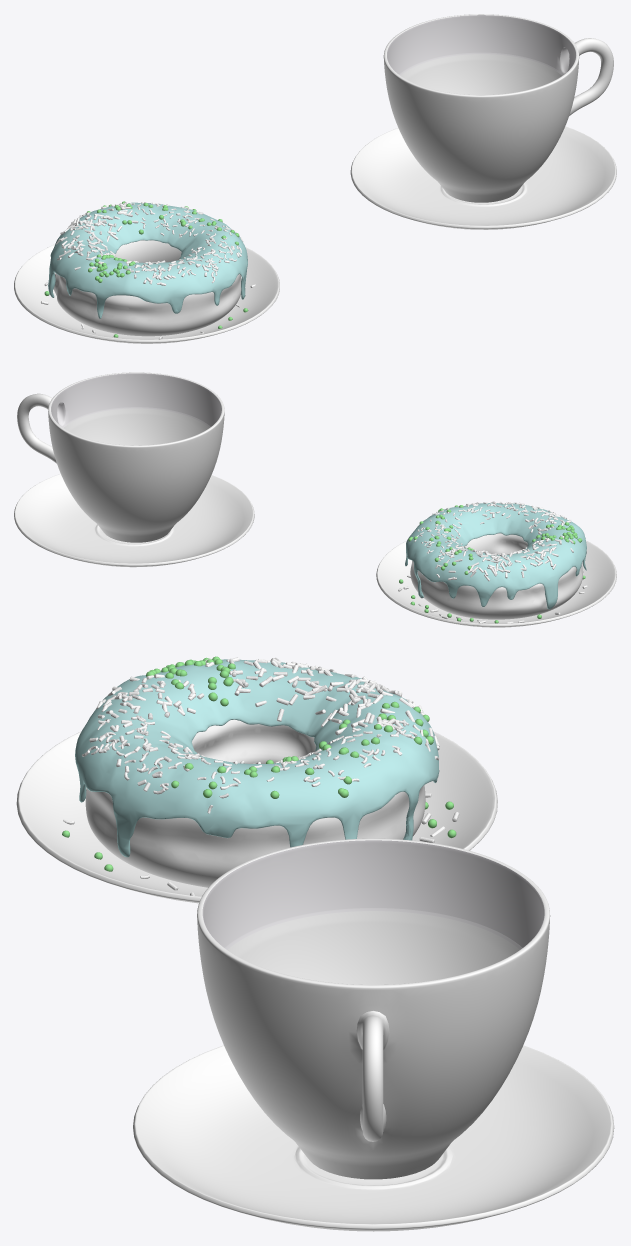
File: Coffe.glb
The picture shows the model from 3 angles, top to bottom: view 1: azimuth 30°, elevation 25°; view 2: azimuth 150°, elevation 25°; view 3: azimuth 270°, elevation 25°; orthographic projection. The views are drawn at different scales.
Visible parts, largest first — view 1: Кружка, Тарелка, Torus.001, Torus, Тарелка.001, Кружка.001; view 2: Кружка, Тарелка, Torus.001, Тарелка.001, Torus, Кружка.001; view 3: Кружка, Тарелка, Torus.001, Кружка.001, Torus, Тарелка.001.
Boxes of the visible parts, x1,y1,x2,y2 form: Кружка: [383, 14, 613, 202]; Тарелка: [350, 126, 616, 229]; Torus.001: [48, 202, 247, 318]; Torus: [53, 240, 241, 336]; Тарелка.001: [14, 244, 279, 343]; Кружка.001: [399, 53, 563, 94]; Кружка: [17, 372, 224, 542]; Тарелка: [14, 474, 254, 567]; Torus.001: [405, 502, 586, 609]; Тарелка.001: [376, 540, 616, 627]; Torus: [410, 533, 583, 619]; Кружка.001: [62, 407, 209, 445]; Кружка: [197, 838, 550, 1179]; Тарелка: [133, 1045, 614, 1231]; Torus.001: [75, 659, 439, 857]; Кружка.001: [225, 908, 521, 984]; Torus: [85, 719, 425, 887]; Тарелка.001: [16, 731, 497, 903].
Size of the model in its own units: 0.3947 by 0.0843 by 0.1844.
